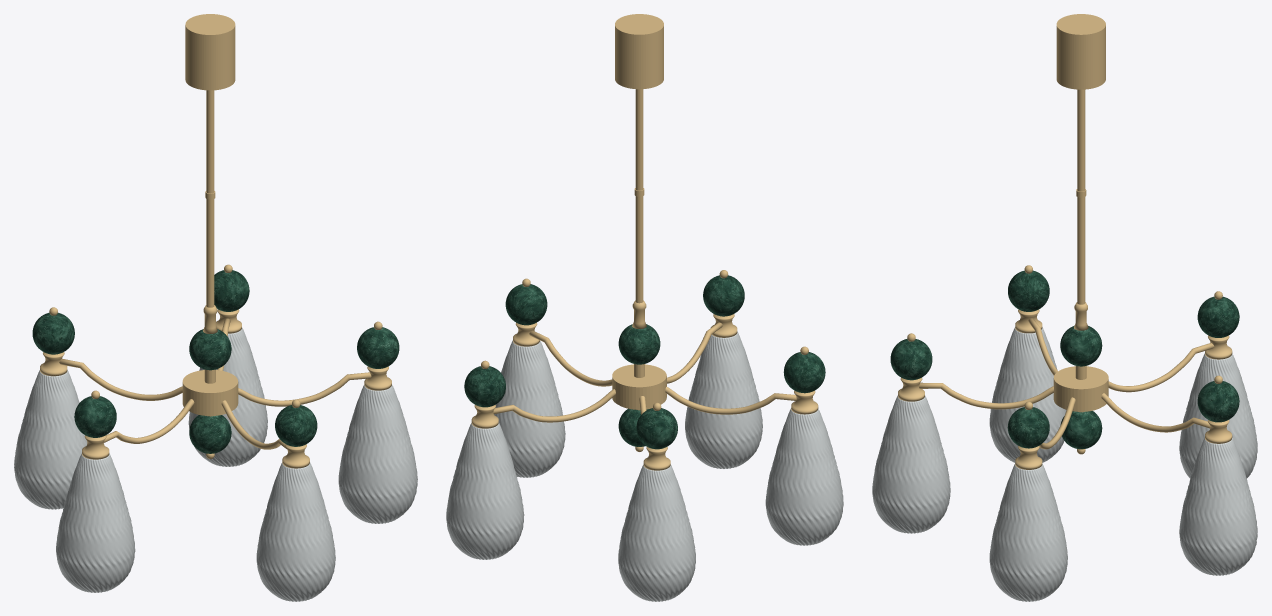
3 views of the same model, side by side, from view 1: azimuth 30°, elevation 25°; view 2: azimuth 150°, elevation 25°; view 3: azimuth 270°, elevation 25° (orthographic).
Visible parts, largest first — view 1: glass, arm, ball; view 2: glass, arm, ball; view 3: glass, arm, ball.
Part boxes in pixels (box(x1,y1,x2,y2)): glass: box(14, 327, 417, 601); arm: box(40, 14, 391, 468); ball: box(32, 270, 399, 453); glass: box(446, 331, 843, 601); arm: box(471, 14, 818, 470); ball: box(464, 275, 825, 449); glass: box(872, 327, 1257, 601); arm: box(898, 14, 1232, 469); ball: box(890, 270, 1239, 449).
Bounding box in the file's own units: 0.6503 × 0.896 × 0.6246.
3 materials, 1 textured.
